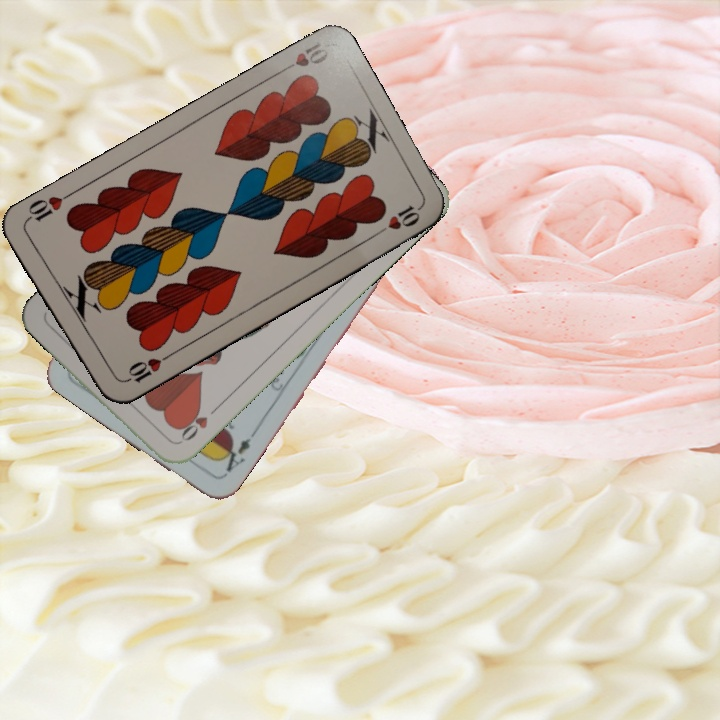EA: (214, 427, 258, 479)
H10: (275, 39, 331, 76), (117, 350, 172, 386)
HO: (171, 403, 220, 447)
